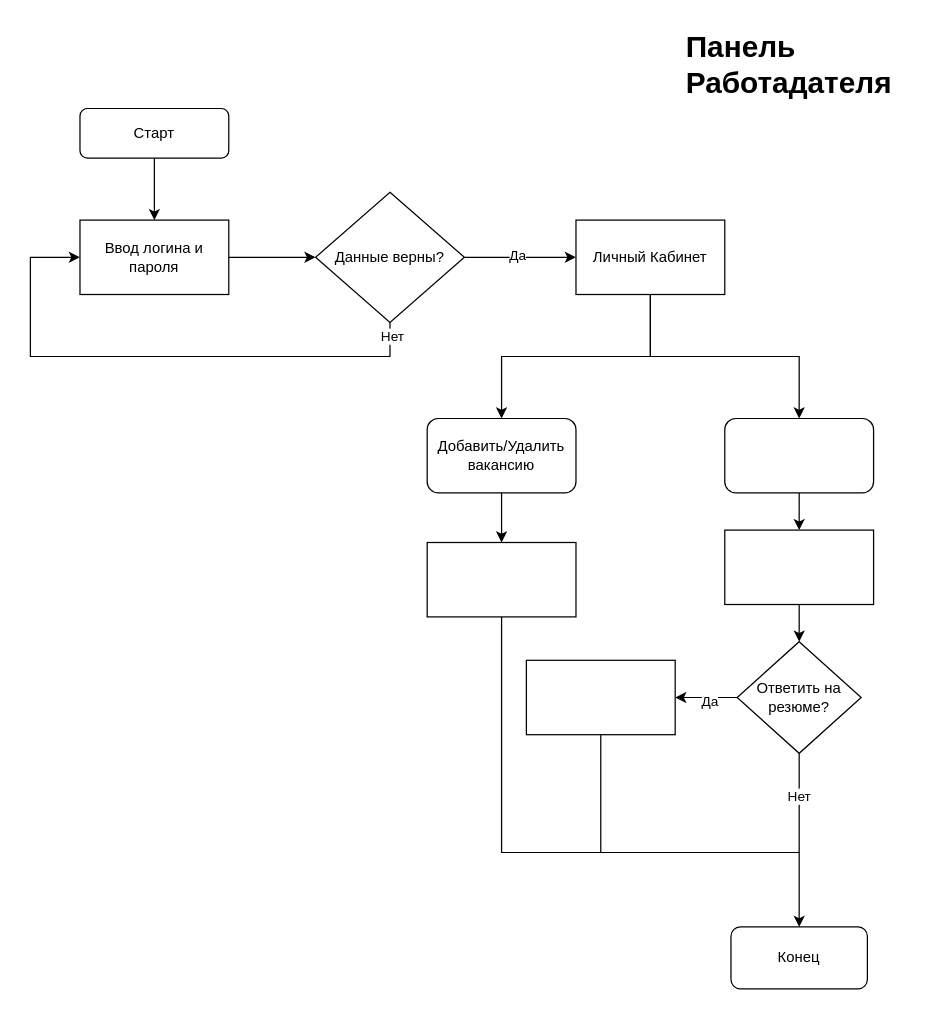
This 929x1011 diagram has some shape labels left out. The shapes that lost their labels are listed below. From the top down, each one's centre as x and y in pixels, then its label:
point (799, 455): Посмотреть поданные резюме
point (501, 579): Изменить данные о вакансиях в БД
point (799, 566): Отфильтровать по нужным критериям
point (600, 697): Написать пользователю
